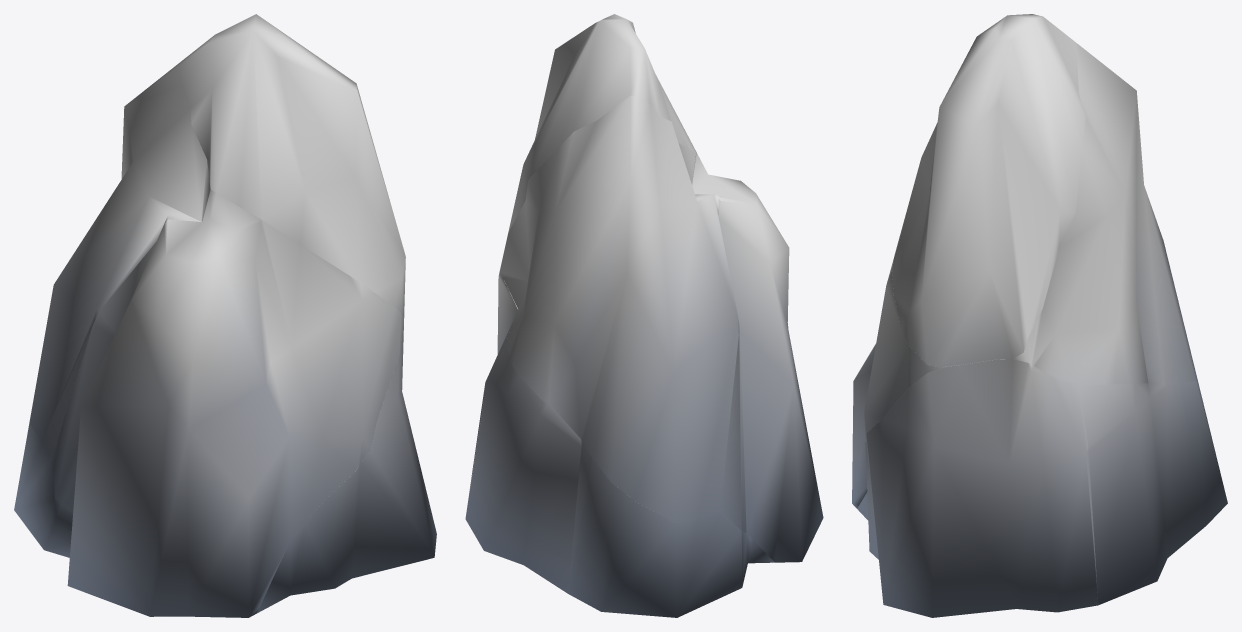
The model's file is WhiteRockPieces.gltf.
3 renders of one model, left to right at view 1: azimuth 30°, elevation 25°; view 2: azimuth 150°, elevation 25°; view 3: azimuth 270°, elevation 25°, orthographic. The views are drawn at different scales.
Visible parts, largest first — view 1: WhiteRockMesh4, WhiteRockMesh5, WhiteRockMesh3, WhiteRockMesh2, WhiteRockMesh1; view 2: WhiteRockMesh3, WhiteRockMesh1, WhiteRockMesh4, WhiteRockMesh5, WhiteRockMesh2; view 3: WhiteRockMesh2, WhiteRockMesh5, WhiteRockMesh3, WhiteRockMesh1, WhiteRockMesh4.
Boxes of the visible parts, bbox=[...] form: WhiteRockMesh4: bbox=[51, 190, 404, 617]; WhiteRockMesh5: bbox=[180, 14, 405, 315]; WhiteRockMesh3: bbox=[29, 61, 210, 458]; WhiteRockMesh2: bbox=[257, 325, 436, 613]; WhiteRockMesh1: bbox=[14, 423, 72, 557]; WhiteRockMesh3: bbox=[499, 95, 738, 523]; WhiteRockMesh1: bbox=[465, 332, 774, 617]; WhiteRockMesh4: bbox=[692, 152, 823, 562]; WhiteRockMesh5: bbox=[508, 14, 696, 231]; WhiteRockMesh2: bbox=[470, 272, 517, 484]; WhiteRockMesh2: bbox=[857, 359, 1098, 617]; WhiteRockMesh5: bbox=[892, 14, 1085, 367]; WhiteRockMesh3: bbox=[1013, 43, 1197, 385]; WhiteRockMesh1: bbox=[1078, 381, 1227, 605]; WhiteRockMesh4: bbox=[852, 258, 941, 508].
Size of the model in its own units: 1.79 by 2.67 by 1.71.
